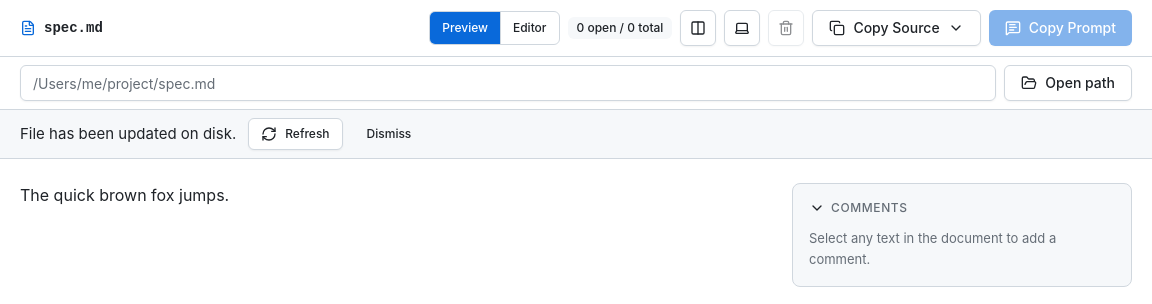
Scenario: App file watcher banner › dismisses the banner without refreshing when Dismiss is clicked
Expected: the text "spec.md" is shown, [44,18,103,38]
Expected: the text "File has been updated on disk." is shown, [20,122,236,146]
Click the button "Dismiss".
click(389, 134)  # box [355,118,423,150]
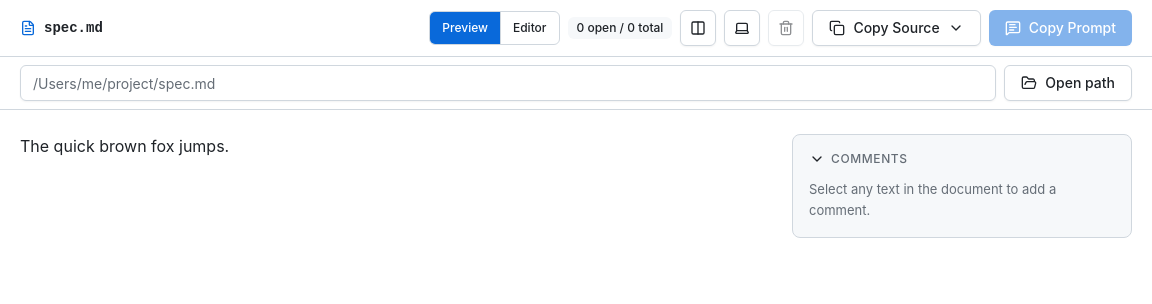
Now the text "File has been updated on disk." is gone
